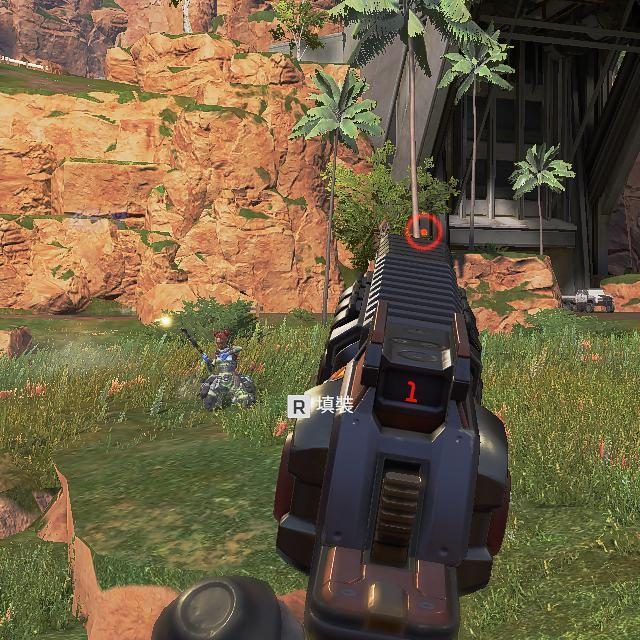avatar: (200, 329, 255, 410)
